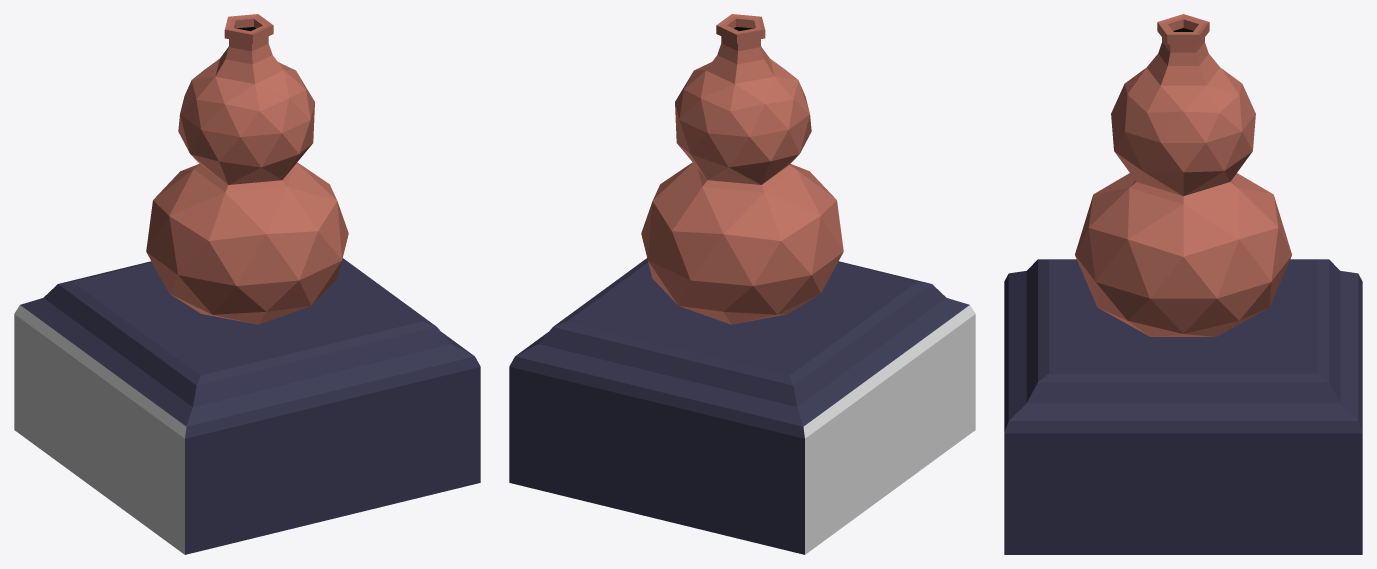
Rendered from Gourd(Pawn).fbx.
3 views of the same model, side by side, from view 1: azimuth 30°, elevation 25°; view 2: azimuth 150°, elevation 25°; view 3: azimuth 270°, elevation 25° (orthographic). The views are drawn at different scales.
Visible parts, largest first — view 1: Gourd; view 2: Gourd; view 3: Gourd.
Part boxes in pixels (box(x1,y1,x2,y2)): Gourd: box(14, 14, 480, 554); Gourd: box(509, 14, 975, 554); Gourd: box(1004, 14, 1362, 554).
Size of the model in its own units: 200 by 279 by 200.
